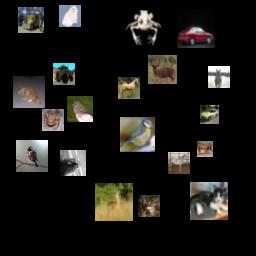automobile: (177, 10, 215, 48), (200, 105, 219, 124)
bird: (120, 117, 155, 152), (16, 140, 48, 172), (67, 96, 93, 122)
cat: (190, 182, 228, 220), (13, 76, 45, 108), (60, 150, 86, 176), (59, 5, 81, 27)
deer: (95, 183, 133, 221), (148, 55, 177, 84), (138, 195, 160, 217)
frog: (126, 10, 161, 45), (42, 109, 64, 131)
truck: (18, 7, 44, 33), (53, 63, 75, 85)
